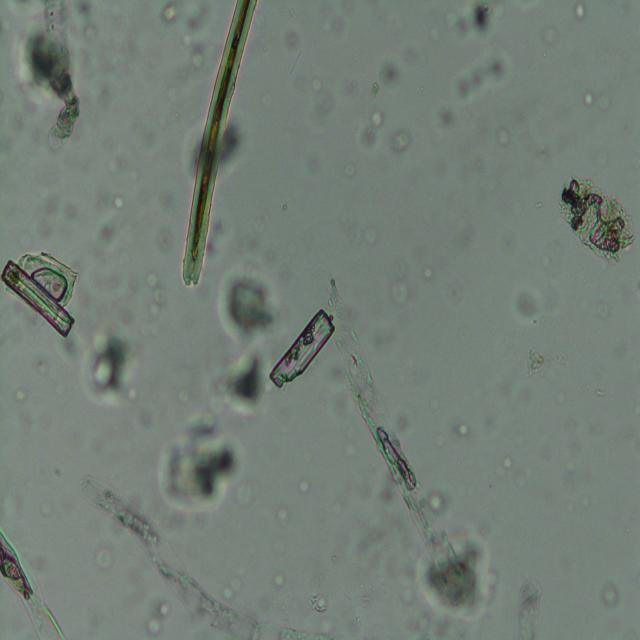Background material: (156, 409, 248, 517), (560, 173, 638, 266), (215, 266, 283, 346), (82, 331, 140, 406), (17, 245, 81, 307), (451, 51, 513, 102), (224, 344, 268, 412), (178, 1, 214, 73), (342, 204, 379, 249), (567, 83, 613, 119), (408, 610, 463, 640), (384, 250, 414, 304), (304, 68, 332, 120), (136, 591, 172, 631), (356, 112, 387, 153), (102, 194, 126, 238), (468, 1, 494, 36), (378, 62, 406, 94), (514, 288, 540, 322), (112, 296, 136, 332), (152, 292, 178, 321), (524, 342, 544, 378), (396, 406, 414, 440), (282, 24, 302, 53), (222, 571, 242, 599), (293, 471, 313, 498), (148, 228, 176, 247), (88, 548, 112, 570), (391, 128, 413, 151), (431, 488, 449, 515), (32, 356, 54, 378), (328, 16, 350, 37), (493, 124, 512, 148), (595, 295, 612, 321), (455, 417, 472, 442), (439, 108, 459, 129), (600, 584, 619, 606), (159, 3, 178, 24), (307, 151, 325, 173), (270, 572, 286, 596), (308, 596, 327, 614), (144, 268, 160, 288), (64, 340, 79, 360), (342, 156, 356, 176), (592, 386, 608, 403), (421, 261, 434, 281), (344, 445, 358, 462), (15, 388, 28, 406), (575, 3, 587, 21), (279, 514, 289, 529), (503, 456, 512, 471), (534, 198, 546, 209)
Cellulose filter fibre: (306, 262, 480, 614), (77, 474, 304, 639), (24, 2, 84, 151), (0, 532, 66, 639), (511, 571, 543, 638)
Diatom: (2, 259, 78, 338), (269, 307, 336, 388)
Hair textile: (177, 0, 259, 293)
